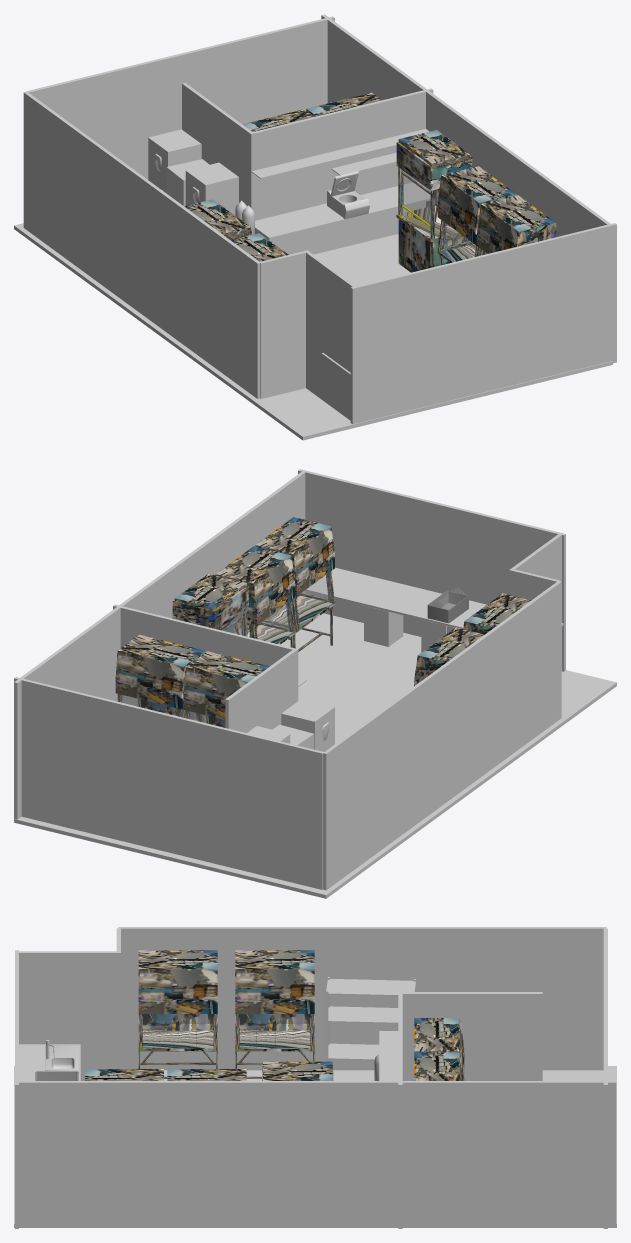
The model's file is UCL_lab_v5.fbx.
3 renders of one model, top to bottom at view 1: azimuth 30°, elevation 25°; view 2: azimuth 150°, elevation 25°; view 3: azimuth 270°, elevation 25°, orthographic. The views are drawn at different scales.
Parts seen in each view (by area): view 1: wall, Floor, Hazardous_Waste, ENVAIR_Table.006, ENVAIR_Table.002, Cube.009, Cube.038, Cube.031, ENVAIR_Table.001, Cube.016, H_window, Cube.037 (+8 smaller); view 2: wall, Floor, ENVAIR_Table.002, ENVAIR_Table.003, ENVAIR_Table.006, Cube.008, ENVAIR_Table.007, Hazardous_Waste, ENVAIR_Table.001, Window.002, ENVAIR_Table, Cube.011 (+4 smaller); view 3: wall, ENVAIR_Table, ENVAIR_Table.001, Cube.023, Window.001, Window, Floor, ENVAIR_Table.007, Hazardous_Waste, ENVAIR_Table.003, Cube.008, Cube.038 (+4 smaller).
Part boxes in pixels (bbox=[...]): wall: bbox=[23, 14, 616, 424]; Floor: bbox=[14, 223, 612, 440]; Hazardous_Waste: bbox=[396, 130, 472, 272]; ENVAIR_Table.006: bbox=[437, 166, 516, 265]; ENVAIR_Table.002: bbox=[477, 195, 556, 255]; Cube.009: bbox=[255, 181, 430, 239]; Cube.038: bbox=[251, 129, 428, 178]; Cube.031: bbox=[185, 162, 238, 215]; ENVAIR_Table.001: bbox=[184, 199, 251, 240]; Cube.016: bbox=[148, 129, 201, 193]; H_window: bbox=[401, 172, 430, 227]; Cube.037: bbox=[403, 171, 429, 233]; wall: bbox=[14, 469, 565, 890]; Floor: bbox=[14, 613, 616, 898]; ENVAIR_Table.002: bbox=[255, 517, 334, 651]; ENVAIR_Table.003: bbox=[115, 634, 205, 722]; ENVAIR_Table.006: bbox=[215, 546, 295, 647]; Cube.008: bbox=[304, 567, 563, 628]; ENVAIR_Table.007: bbox=[183, 651, 269, 727]; Hazardous_Waste: bbox=[172, 573, 248, 636]; ENVAIR_Table.001: bbox=[414, 627, 484, 685]; Window.002: bbox=[294, 571, 334, 630]; ENVAIR_Table: bbox=[463, 593, 531, 634]; Cube.011: bbox=[364, 605, 403, 646]; wall: bbox=[15, 927, 616, 1228]; ENVAIR_Table: bbox=[138, 950, 217, 1078]; ENVAIR_Table.001: bbox=[235, 950, 314, 1078]; Cube.023: bbox=[326, 977, 416, 1080]; Window.001: bbox=[238, 1014, 311, 1051]; Window: bbox=[141, 1014, 215, 1050]; Floor: bbox=[14, 1066, 616, 1227]; ENVAIR_Table.007: bbox=[414, 1018, 464, 1080]; Hazardous_Waste: bbox=[262, 1061, 333, 1080]; ENVAIR_Table.003: bbox=[414, 1052, 463, 1080]; Cube.008: bbox=[19, 1044, 80, 1080]; Cube.038: bbox=[379, 1031, 398, 1080].
Size of the model in its own units: 635 by 269 by 1011.
